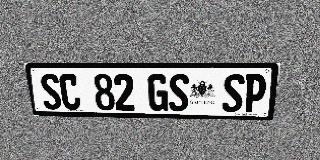2: (113, 74, 135, 111)
8: (93, 74, 115, 110)
C: (58, 74, 82, 110)
G: (148, 74, 168, 111)
P: (243, 74, 268, 112)
S: (221, 74, 245, 112), (39, 74, 63, 110), (169, 74, 189, 111)
